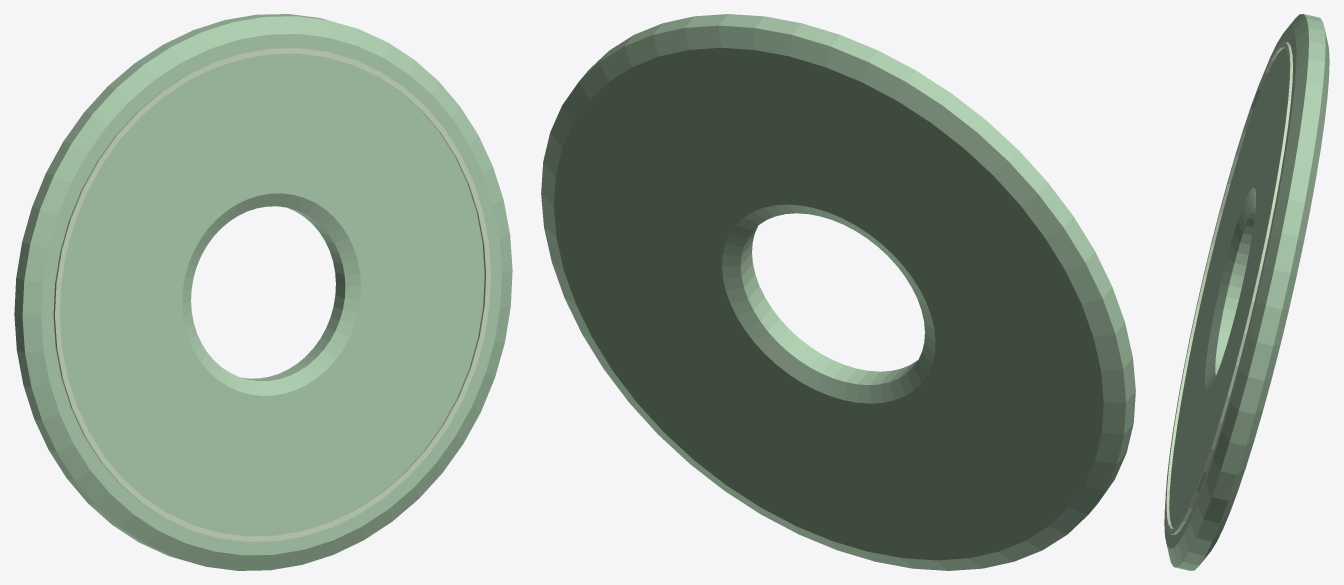
File: jade-bi.glb
The picture shows the model from 3 angles, left to right: view 1: azimuth 30°, elevation 25°; view 2: azimuth 150°, elevation 25°; view 3: azimuth 270°, elevation 25°; orthographic projection. The views are drawn at different scales.
Parts seen in each view (by area): view 1: Jade ring, Concentric relief; view 2: Jade ring; view 3: Jade ring, Concentric relief.
Part boxes in pixels (x1,y1,x2,y2): Jade ring: [14, 14, 512, 570]; Concentric relief: [53, 47, 490, 541]; Jade ring: [541, 14, 1135, 570]; Jade ring: [1164, 14, 1329, 570]; Concentric relief: [1165, 42, 1292, 534].
Bounding box in the file's own units: 0.4 × 0.3905 × 0.1163.
